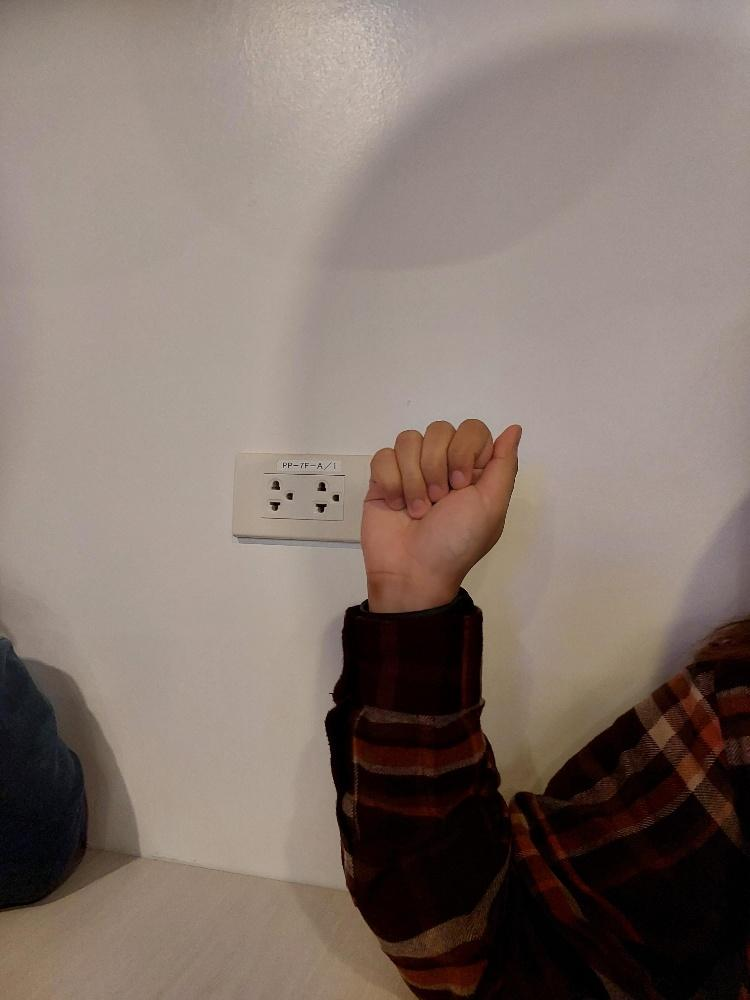a: (355, 410, 524, 590)
